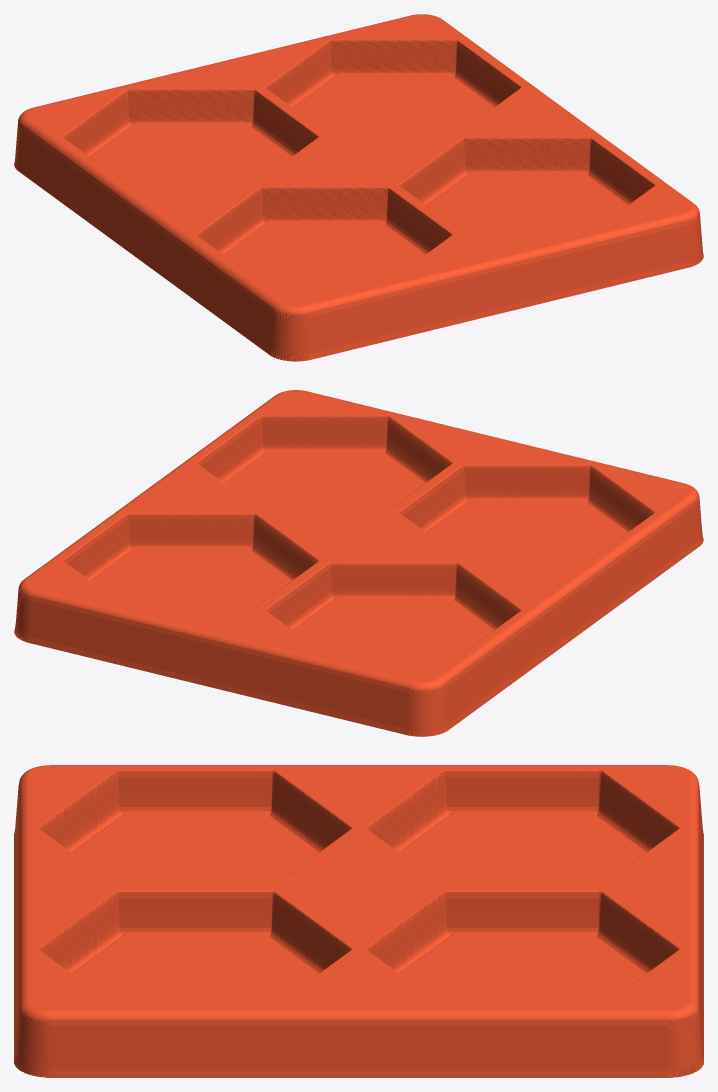
File: mold.glb
The picture shows the model from 3 angles, top to bottom: view 1: azimuth 30°, elevation 25°; view 2: azimuth 150°, elevation 25°; view 3: azimuth 270°, elevation 25°; orthographic projection. The views are drawn at different scales.
Parts seen in each view (by area): view 1: geometry_0; view 2: geometry_0; view 3: geometry_0.
Part boxes in pixels (x1=…): geometry_0: x1=14, y1=14, x2=703, y2=361; geometry_0: x1=14, y1=390, x2=703, y2=736; geometry_0: x1=14, y1=765, x2=703, y2=1077.
Bounding box in the file's own units: 0.1488 × 0.0165 × 0.1688.
